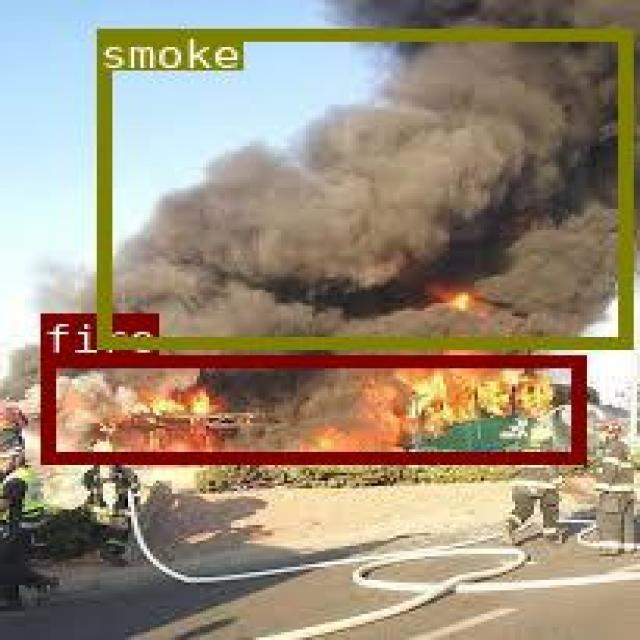fire: (39, 353, 583, 461)
smoke: (96, 29, 629, 346)
